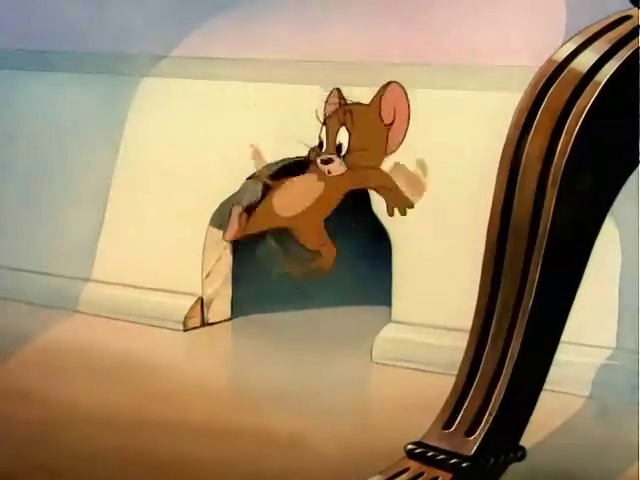jerry: (200, 73, 424, 288)
